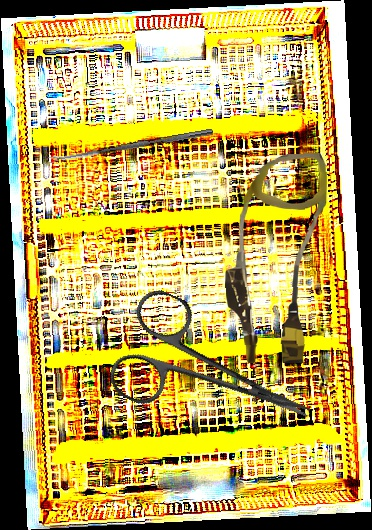Cannula: (223, 153, 330, 364)
Iris Scissors: (101, 284, 332, 469)
Surgical Spoon: (46, 127, 214, 164)
